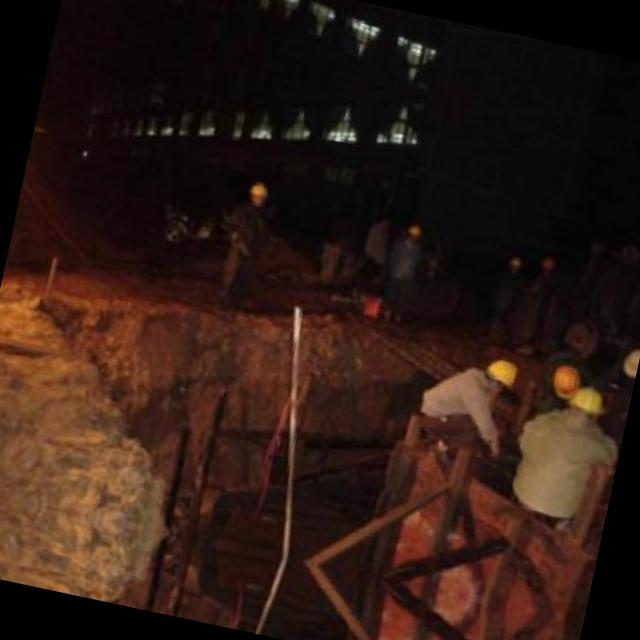helmet: (562, 380, 610, 423), (480, 349, 520, 398), (546, 362, 584, 405), (244, 178, 274, 210)
